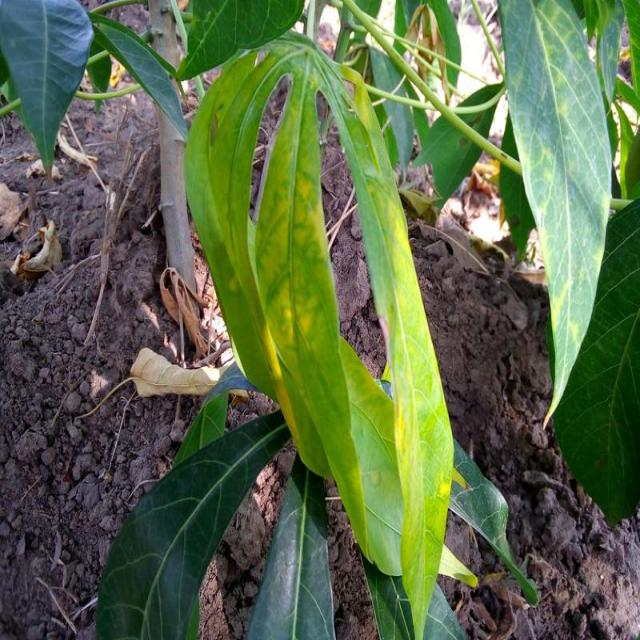cassava leaf: (182, 28, 464, 634), (498, 0, 614, 430), (550, 195, 640, 526), (1, 0, 95, 179)
